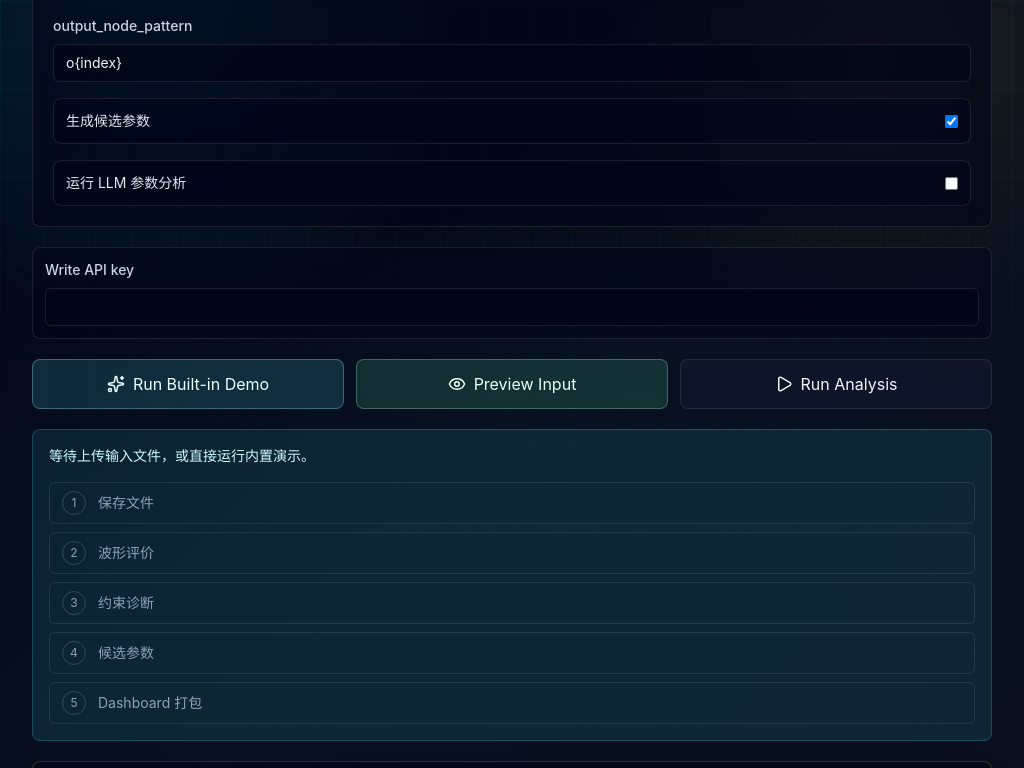
Test: UploadWorkspace › does not preview without waveform.csv
(page scrolled)
Click the button "Preview Input". click: (512,384)
box: [356,359,668,409]
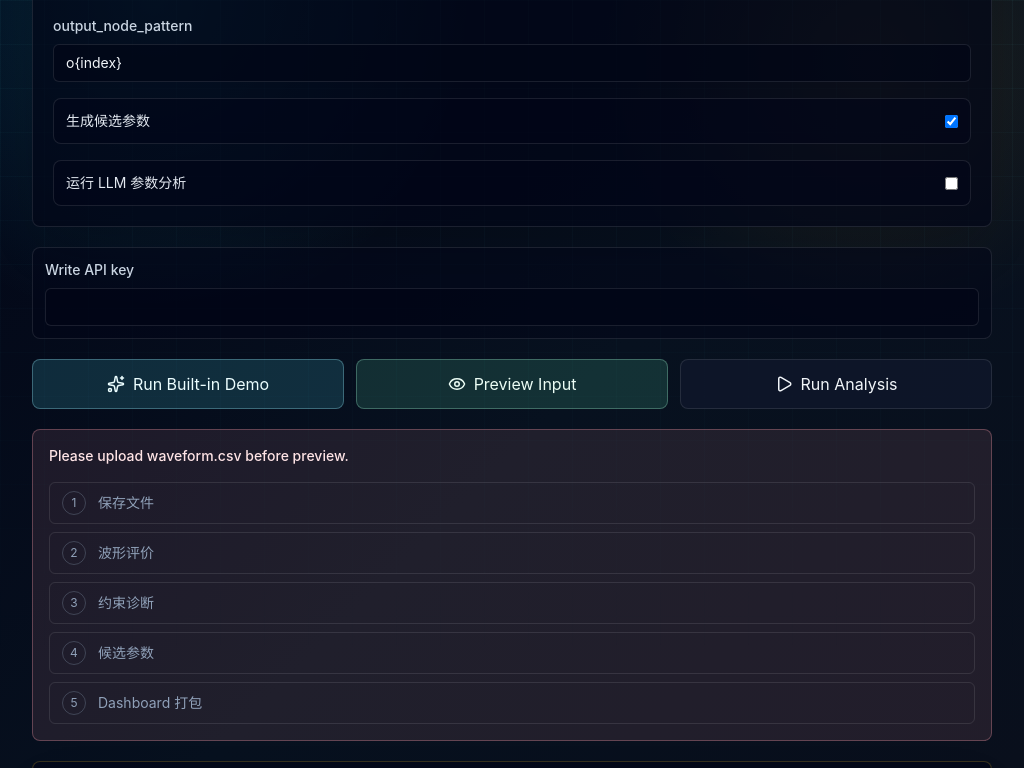
Check: the text "Please upload waveform.csv before preview." is shown, box [49,447,349,464]
